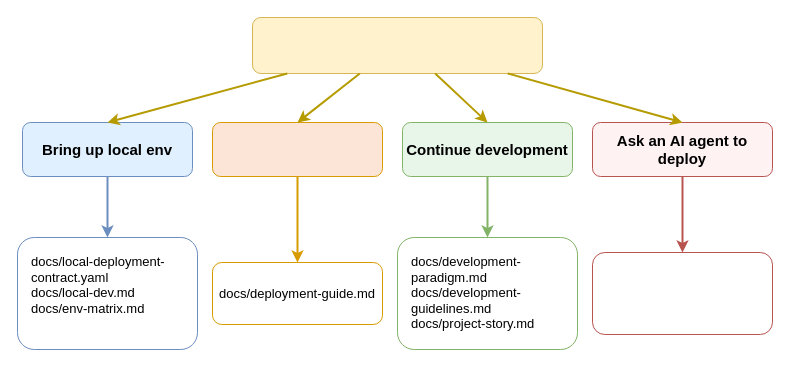
This 790x367 diagram has some shape labels left out. Each missing label, with the centre of its shape:
"docs/ai-deployment-assistant-instruction.md" goes at point (682, 293).
"Learn full deployment" goes at point (297, 149).
"What do I want to do?" goes at point (397, 45).
